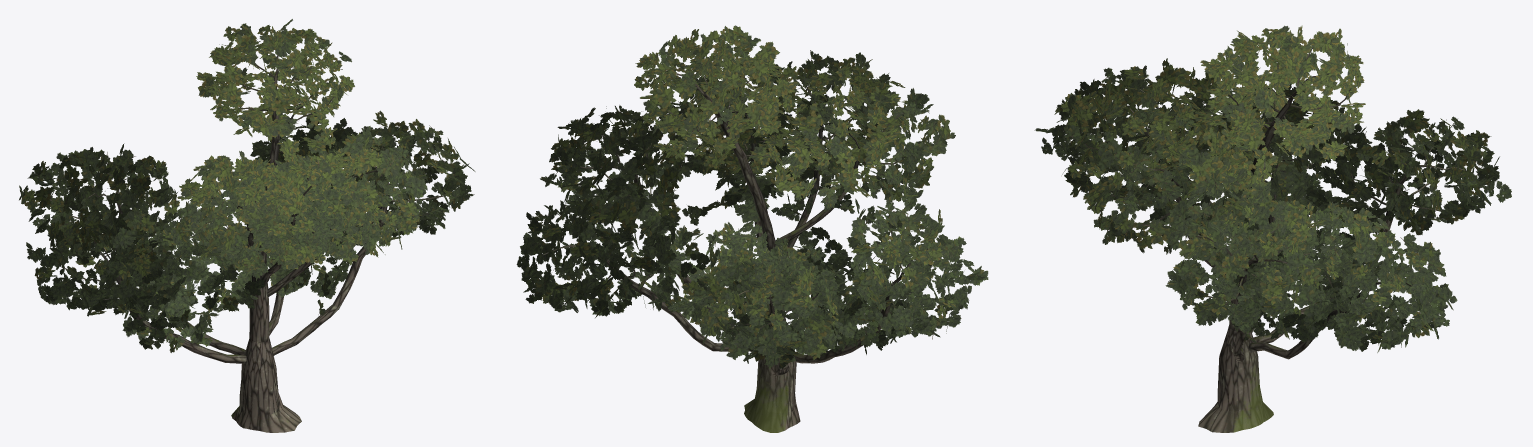
Rendered from oak_b.glb.
The picture shows the model from 3 angles, left to right: view 1: azimuth 30°, elevation 25°; view 2: azimuth 150°, elevation 25°; view 3: azimuth 270°, elevation 25°; orthographic projection. The views are drawn at different scales.
Visible parts, largest first — view 1: oak_b_extra0, oak_b_LOD0; view 2: oak_b_extra0, oak_b_LOD0; view 3: oak_b_extra0, oak_b_LOD0.
Part boxes in pixels (left/top/right/bottom): oak_b_extra0: left=19, top=19, right=475, bottom=352; oak_b_LOD0: left=50, top=55, right=448, bottom=432; oak_b_extra0: left=516, top=25, right=988, bottom=368; oak_b_LOD0: left=542, top=58, right=912, bottom=432; oak_b_extra0: left=1034, top=25, right=1511, bottom=352; oak_b_LOD0: left=1071, top=48, right=1465, bottom=432.
Size of what is drawn, in the model's own units: 21.72 by 18.85 by 20.24.
Materials: 2 (2 with a texture image).
